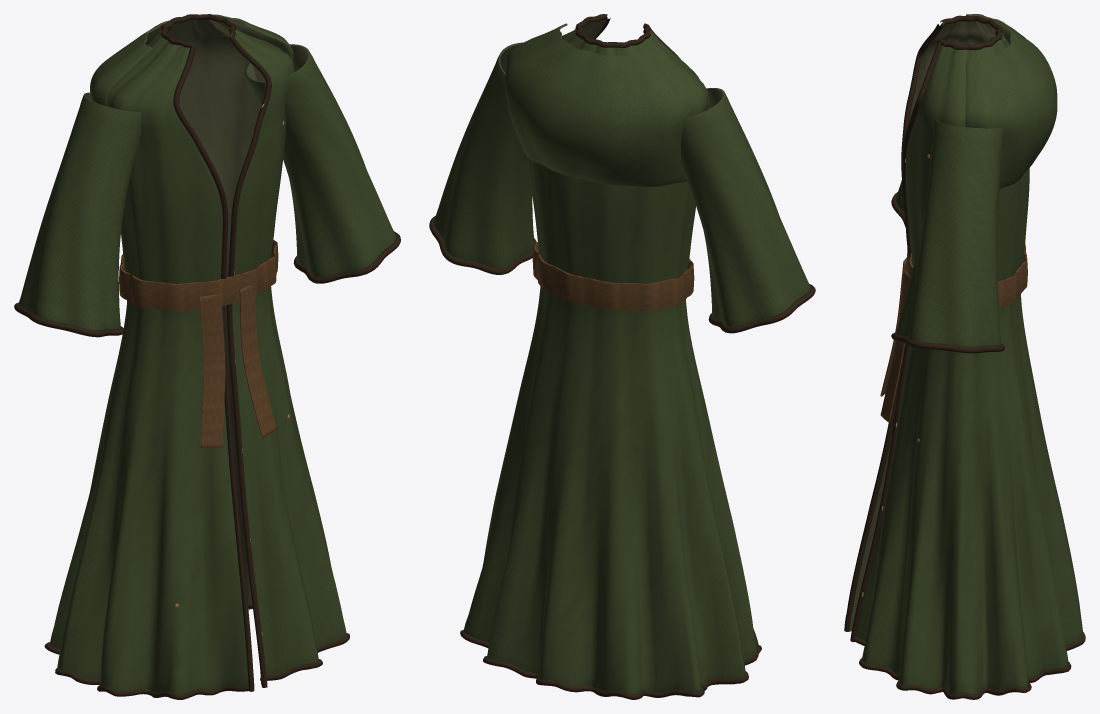
The picture shows the model from 3 angles, left to right: view 1: azimuth 30°, elevation 25°; view 2: azimuth 150°, elevation 25°; view 3: azimuth 270°, elevation 25°; orthographic projection.
Visible parts, largest first — view 1: woven wool, oiled strap leather, brushed wool lining, tanned leather; view 2: woven wool, oiled strap leather, tanned leather, brushed wool lining; view 3: woven wool, oiled strap leather, brushed wool lining, tanned leather.
Part boxes in pixels (bbox=[...]): woven wool: bbox=[18, 14, 396, 696]; oiled strap leather: bbox=[14, 14, 400, 699]; brushed wool lining: bbox=[85, 19, 308, 684]; tanned leather: bbox=[119, 240, 278, 448]; woven wool: bbox=[433, 17, 810, 697]; oiled strap leather: bbox=[429, 14, 815, 699]; tanned leather: bbox=[532, 242, 694, 310]; brushed wool lining: bbox=[500, 19, 722, 109]; woven wool: bbox=[849, 14, 1083, 694]; oiled strap leather: bbox=[844, 15, 1085, 699]; brushed wool lining: bbox=[849, 16, 1010, 631]; tanned leather: bbox=[880, 244, 1027, 422].
Bounding box in the file's own units: 0.868 × 1.42 × 0.5056.
Materials: 6 (4 with a texture image).
